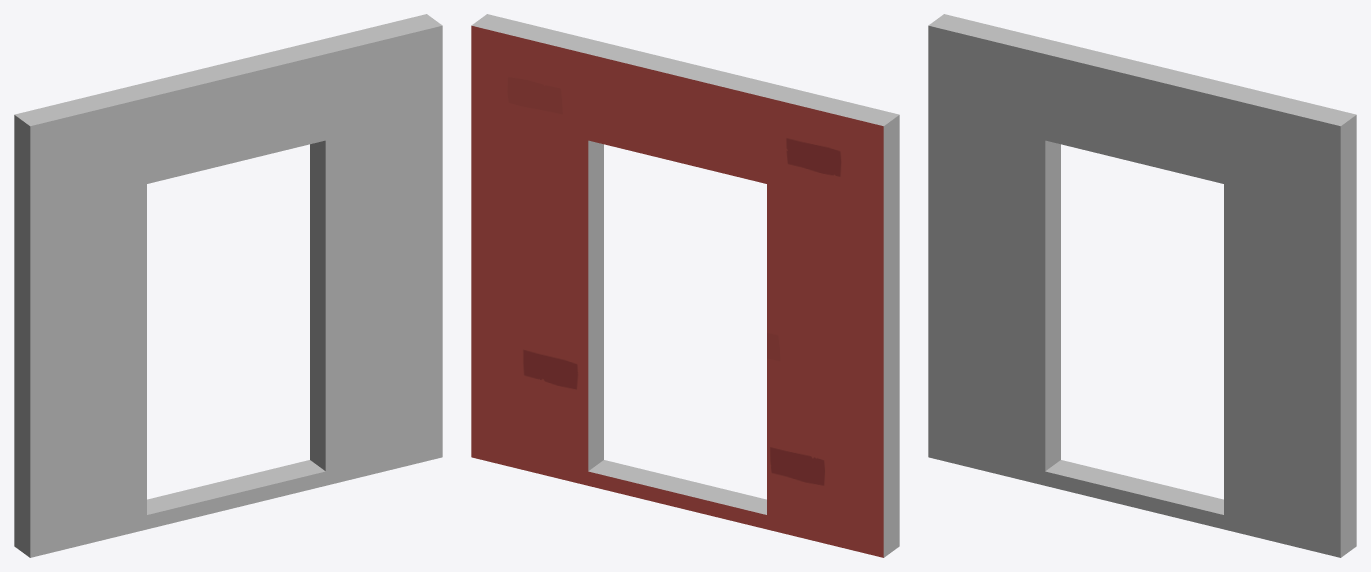
The model's file is Wh_Door_Empty.fbx.
The picture shows the model from 3 angles, left to right: view 1: azimuth 30°, elevation 25°; view 2: azimuth 150°, elevation 25°; view 3: azimuth 330°, elevation 25°; orthographic projection.
Parts seen in each view (by area): view 1: Cube.012; view 2: Cube.012; view 3: Cube.012.
Part boxes in pixels (x1,y1,x2,y2): Cube.012: (14,14,442,557); Cube.012: (471,14,899,557); Cube.012: (928,14,1356,557).
Size of the model in its own units: 300 by 300 by 20.
